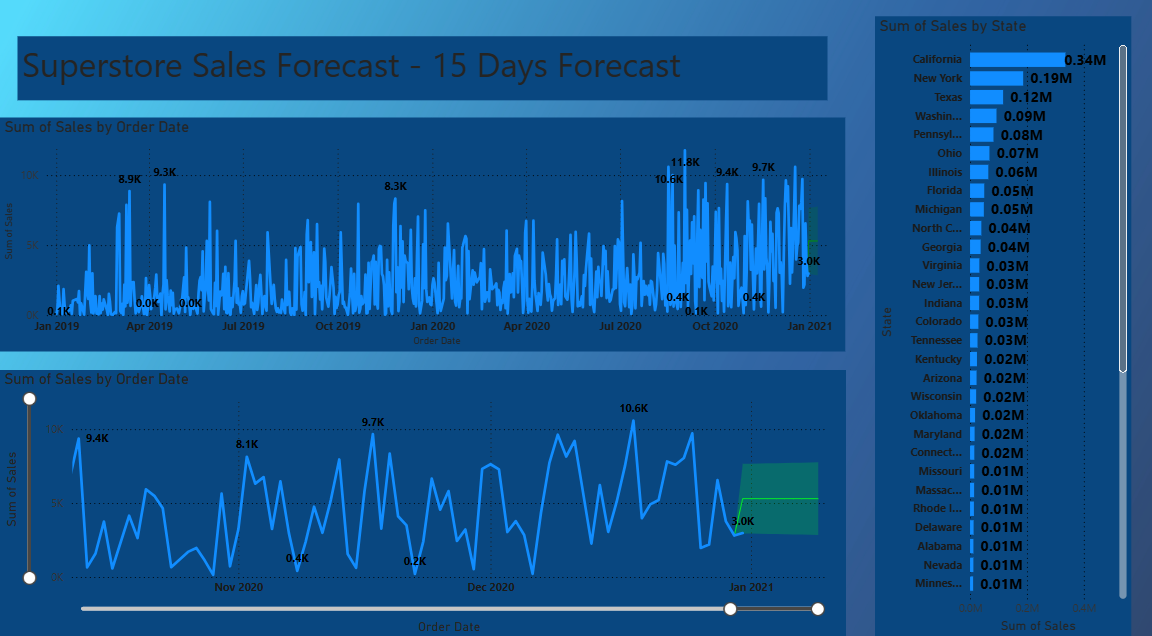

The dashboard page shown, as its layout file describes it:
{"tool":"powerbi","page":{"name":"Page 2","canvas":[1280,720],"ordinal":1},"visuals":[{"type":"lineChart","fields":{"Y":["Sum(SuperStore_Sales_Dataset (2).Sales)"],"Category":["SuperStore_Sales_Dataset (2).Order Date"]},"box":[0,141.7,938.9,259.7],"z":0},{"type":"lineChart","fields":{"Y":["Sum(SuperStore_Sales_Dataset (2).Sales)"],"Category":["SuperStore_Sales_Dataset (2).Order Date"]},"box":[0,422.2,938.9,297.2],"z":1000},{"type":"clusteredBarChart","fields":{"Y":["Sum(SuperStore_Sales_Dataset (2).Sales)"],"Category":["SuperStore_Sales_Dataset (2).State"]},"box":[972.2,29.2,284.7,690.3],"z":2000},{"type":"textbox","box":[19.4,51.4,900,70.8],"z":3000}]}

Visuals, with their boxes in screenshot pixels (x1, y1, x2, y2), scaled from the page's 1280x720 canvas onto the 1152x636 screenshot:
lineChart - Sum(SuperStore_Sales_Dataset (2).Sales) x SuperStore_Sales_Dataset (2).Order Date: 0 125 845 355
lineChart - Sum(SuperStore_Sales_Dataset (2).Sales) x SuperStore_Sales_Dataset (2).Order Date: 0 373 845 635
clusteredBarChart - Sum(SuperStore_Sales_Dataset (2).Sales) x SuperStore_Sales_Dataset (2).State: 875 26 1131 635
textbox: 17 45 827 108
